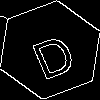D: (25, 25, 80, 81)
